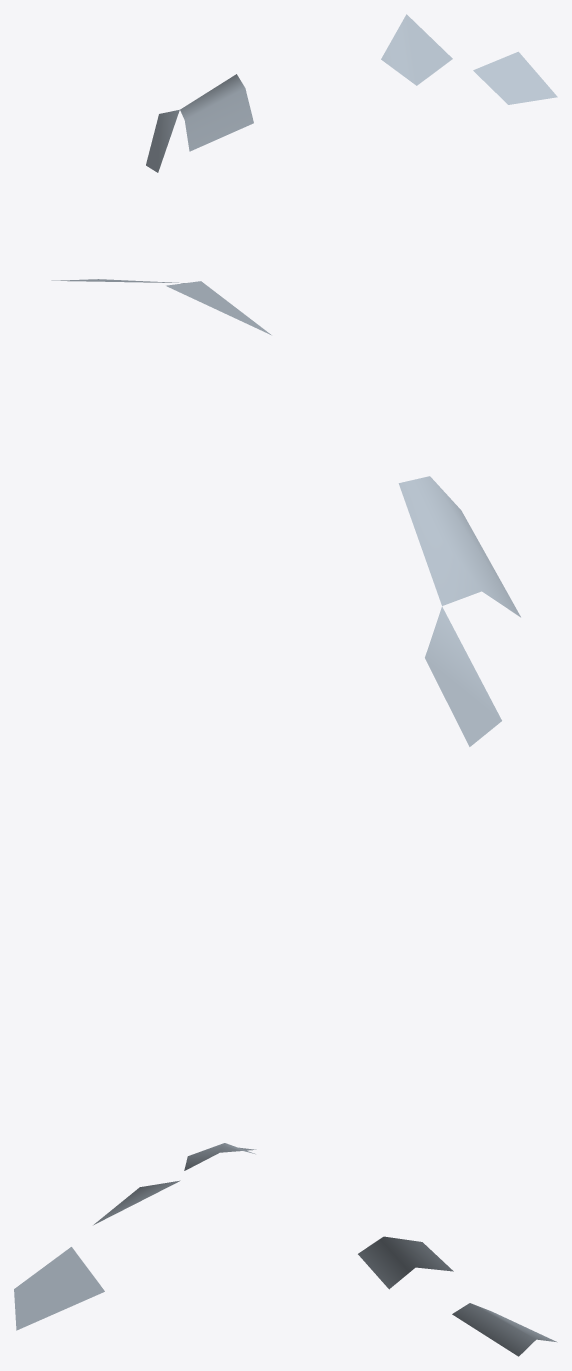
File: dorsal-tarsometatarsal-ligaments-r.glb
The picture shows the model from 3 angles, top to bottom: view 1: azimuth 30°, elevation 25°; view 2: azimuth 150°, elevation 25°; view 3: azimuth 270°, elevation 25°; orthographic projection. The views are drawn at different scales.
Parts seen in each view (by area): view 1: Dorsal tarsometatarsal ligaments.r; view 2: Dorsal tarsometatarsal ligaments.r; view 3: Dorsal tarsometatarsal ligaments.r.
Part boxes in pixels (bbox=[...]): Dorsal tarsometatarsal ligaments.r: bbox=[146, 14, 557, 172]; Dorsal tarsometatarsal ligaments.r: bbox=[51, 279, 520, 746]; Dorsal tarsometatarsal ligaments.r: bbox=[14, 1143, 557, 1356].
Bounding box in the file's own units: 0.0441 × 0.0299 × 0.0408.
